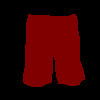bermuda: (22, 13, 84, 86)
